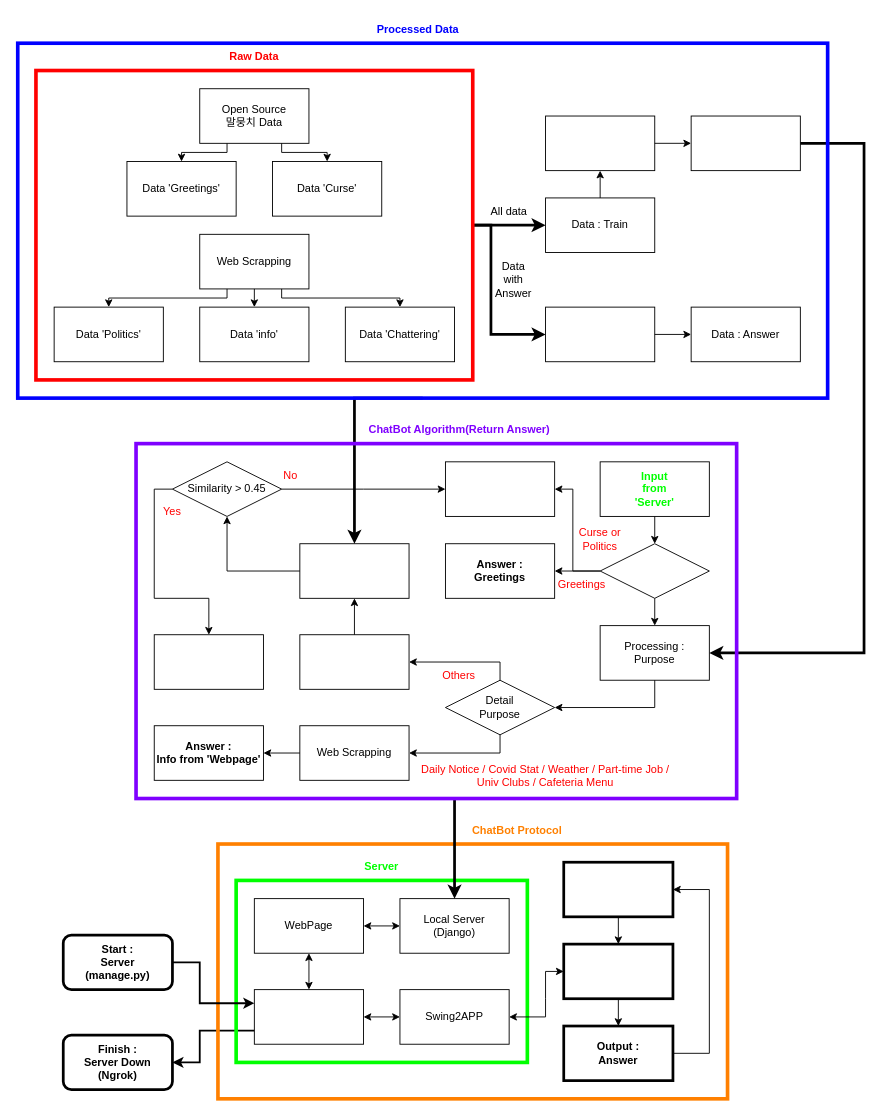
Some shapes in this 888 by 1116 pixel diagram are drawn without their labels. The shapes that lost their labels are listed below. From the top down, each one's centre as x and y in pixels, then its label:
At [600,143]: "CNN Deep Learning (TensorFlow)".
At [745,143]: "model.h5 (exported model)".
At [600,334]: "Tokenizing (Pykomoran)".
At [500,488]: "Answer : Refuse".
At [354,570]: "Cosine SImilarity".
At [654,570]: "Large Purpose".
At [208,661]: "Answer : Info from 'Processed Data'".
At [354,661]: "Tokenizing Input : (Pykomoran)".
At [618,889]: "Input : Chatting".
At [618,971]: "Application 'AjouChatbot'".
At [308,1016]: "Ngrok".
